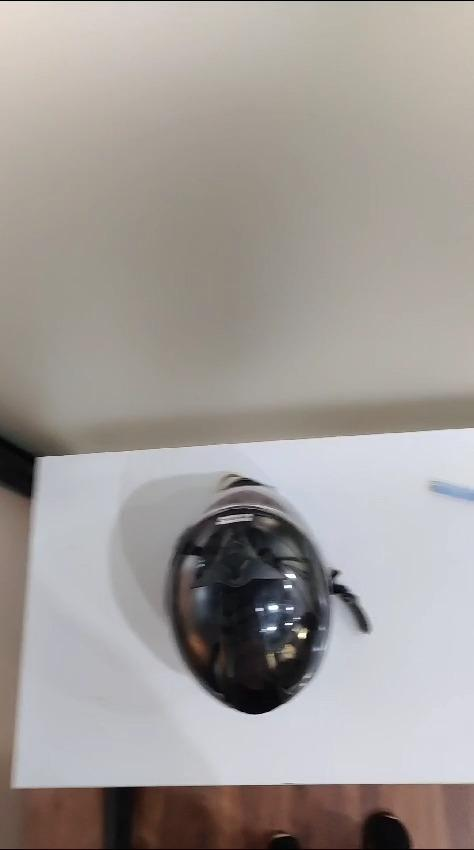Helmet: (168, 476, 369, 714)
